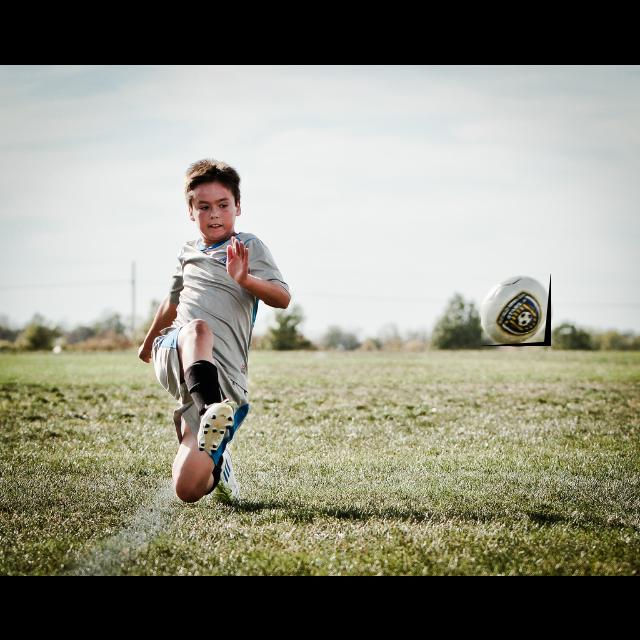Football: (481, 274, 551, 346)
